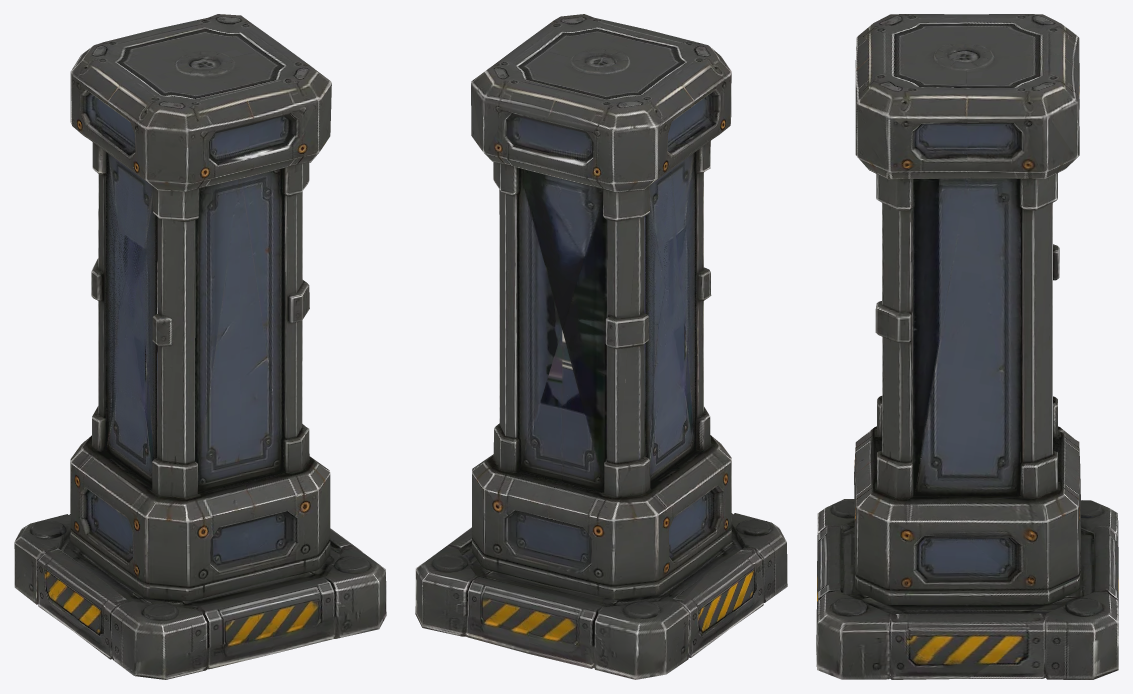
The model's file is column.glb.
The picture shows the model from 3 angles, left to right: view 1: azimuth 30°, elevation 25°; view 2: azimuth 150°, elevation 25°; view 3: azimuth 270°, elevation 25°; orthographic projection. The views are drawn at different scales.
Visible parts, largest first — view 1: mesh_node; view 2: mesh_node; view 3: mesh_node.
Part boxes in pixels (box(x1,y1,x2,y2)): mesh_node: box(14, 14, 386, 679); mesh_node: box(415, 14, 787, 679); mesh_node: box(816, 14, 1118, 679).
Size of the model in its own units: 0.4893 by 1 by 0.4864.
1 material, 1 textured.
